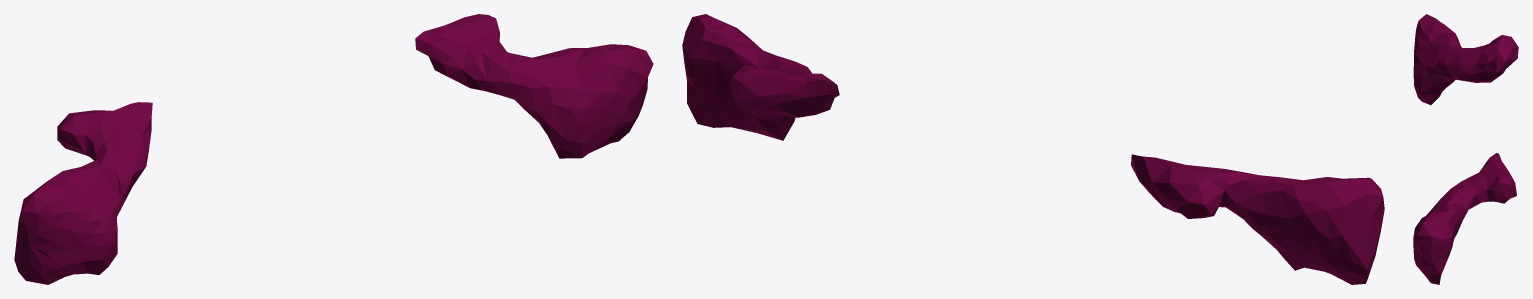
The model's file is 101-AA-anterior amygdaloid area-('0.4980', '0.0000', '0.2863').obj.
3 views of the same model, side by side, from view 1: azimuth 30°, elevation 25°; view 2: azimuth 150°, elevation 25°; view 3: azimuth 270°, elevation 25° (orthographic). The views are drawn at different scales.
Size of the model in its own units: 161 by 28.68 by 33.25.
